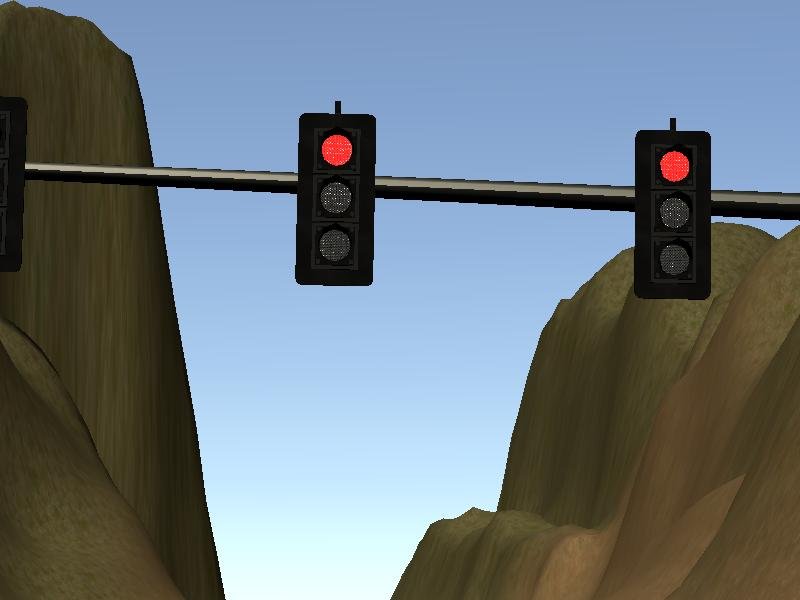red: (297, 110, 375, 288), (633, 126, 711, 299)
